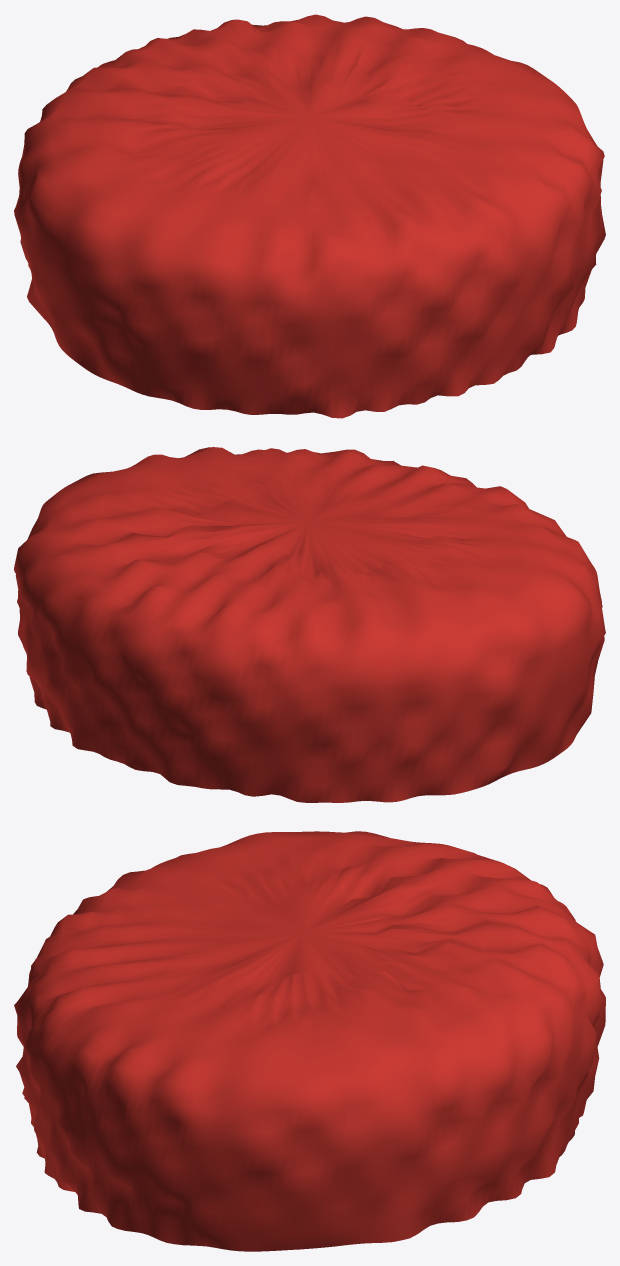
The model's file is hw_kalpak.glb.
3 views of the same model, one above another, from view 1: azimuth 30°, elevation 25°; view 2: azimuth 150°, elevation 25°; view 3: azimuth 270°, elevation 25° (orthographic). The views are drawn at different scales.
Parts seen in each view (by area): view 1: hw_kalpak; view 2: hw_kalpak; view 3: hw_kalpak.
Part boxes in pixels (x1,y1,x2,y2): hw_kalpak: (14, 14, 605, 418); hw_kalpak: (14, 447, 605, 802); hw_kalpak: (14, 831, 605, 1251).
Bounding box in the file's own units: 0.9474 × 0.3529 × 0.8696.
